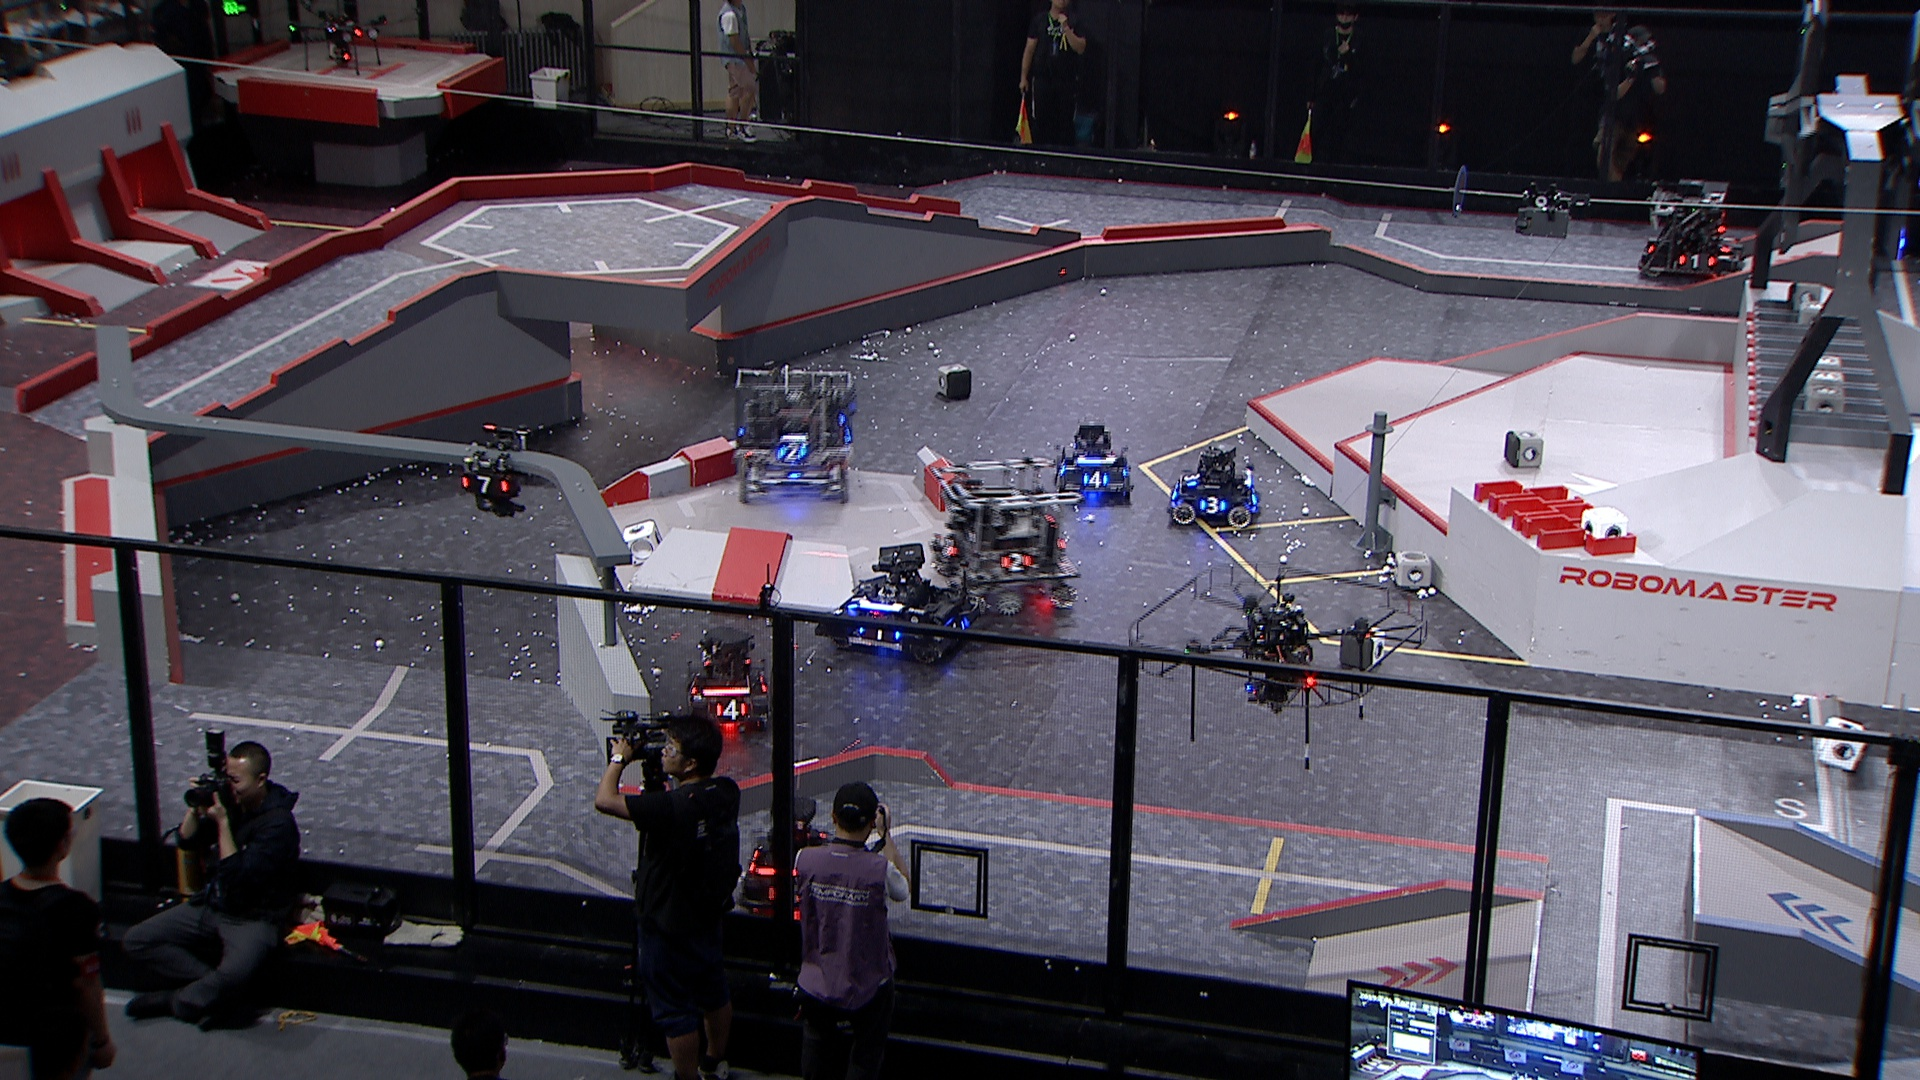armor: (462, 473, 510, 495), (997, 550, 1033, 574), (1679, 251, 1717, 272), (713, 699, 746, 723), (775, 442, 808, 463), (858, 626, 902, 642), (1197, 495, 1229, 516), (1083, 469, 1112, 491), (936, 533, 957, 559), (1183, 469, 1203, 489), (684, 676, 698, 698)
car: (924, 460, 1081, 617), (820, 543, 981, 669), (727, 365, 861, 504), (727, 794, 858, 932), (679, 629, 779, 736), (1638, 182, 1742, 280), (1166, 440, 1266, 531), (1050, 415, 1135, 504)
watcher: (462, 419, 531, 524)
